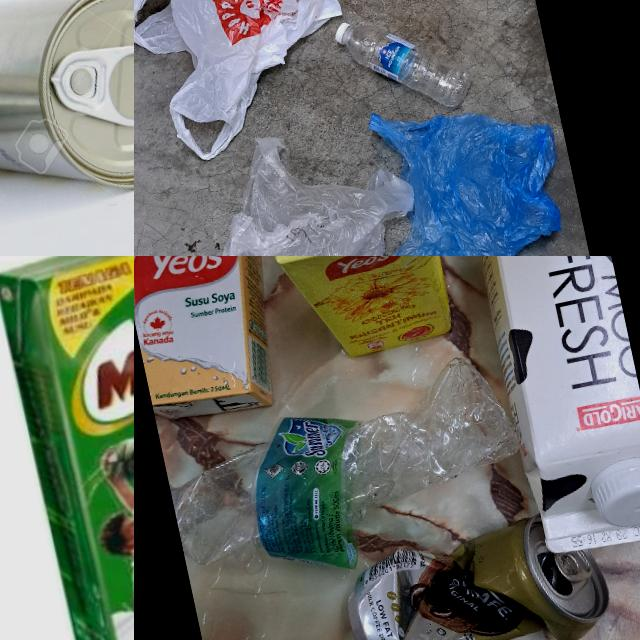aba de lata: (45, 31, 134, 144), (552, 545, 596, 584)
caixinha: (442, 256, 640, 567), (0, 256, 134, 640), (134, 256, 303, 429), (254, 256, 456, 370)
garrafa plástica: (155, 346, 538, 603), (343, 5, 475, 126)
lata: (335, 503, 618, 640), (0, 0, 134, 233)
sacola plástica: (348, 77, 581, 256), (134, 0, 366, 173), (193, 109, 435, 256)
tampa plástica: (332, 20, 354, 44)
